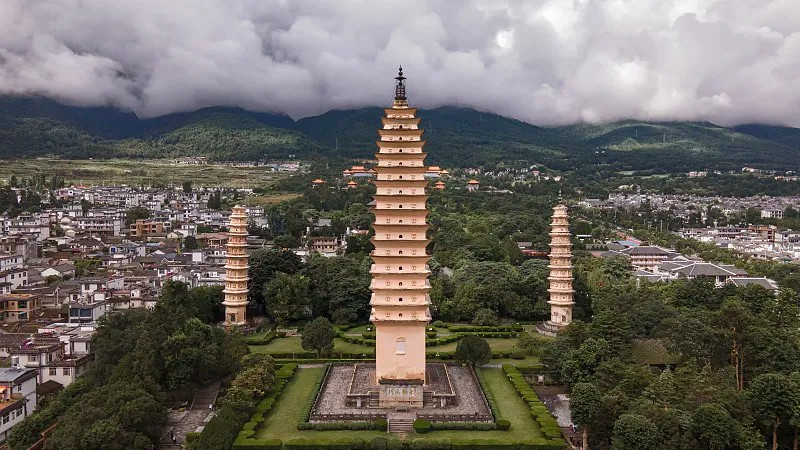ThreePagoda: (369, 64, 432, 383)
